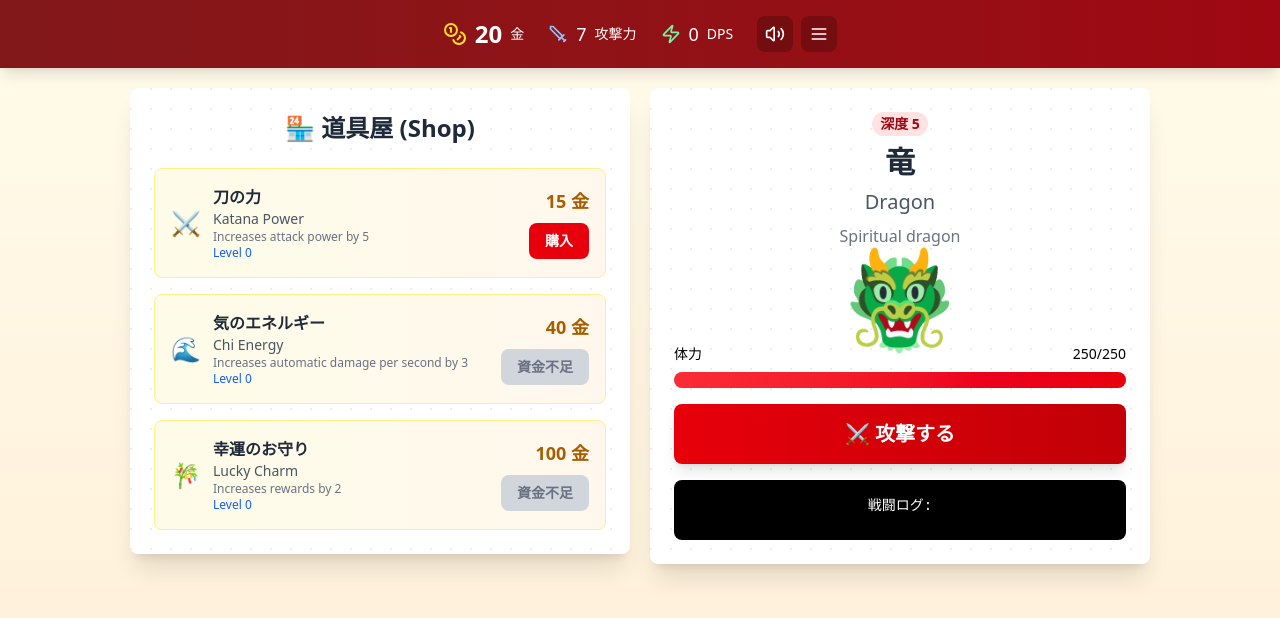
Test: recoil and shake › shakes the battle zone and recoils the creature on a hit
This screenshot has width=1280, height=618.
Click the button "⚔️ 攻撃する" at point(900, 434), box [674,404,1126,464]
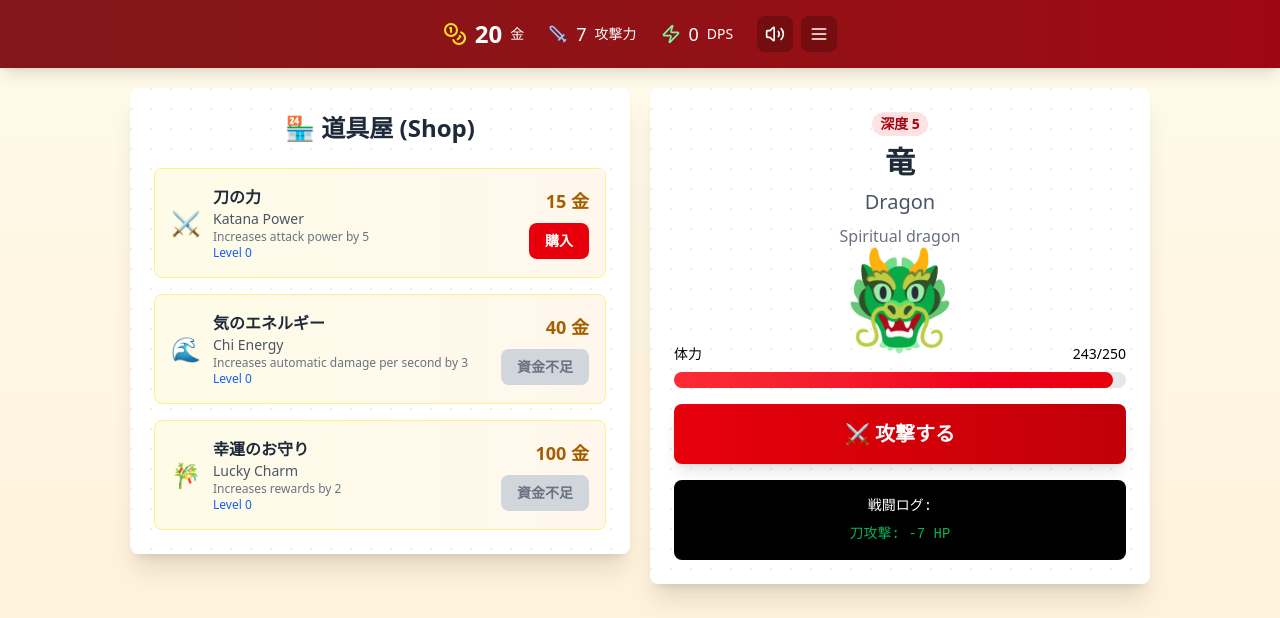
Expected: the text "🐲" is shown, [840,230,960,361]
Expected: the element with class "shake" is shown, [650,88,1150,584]
